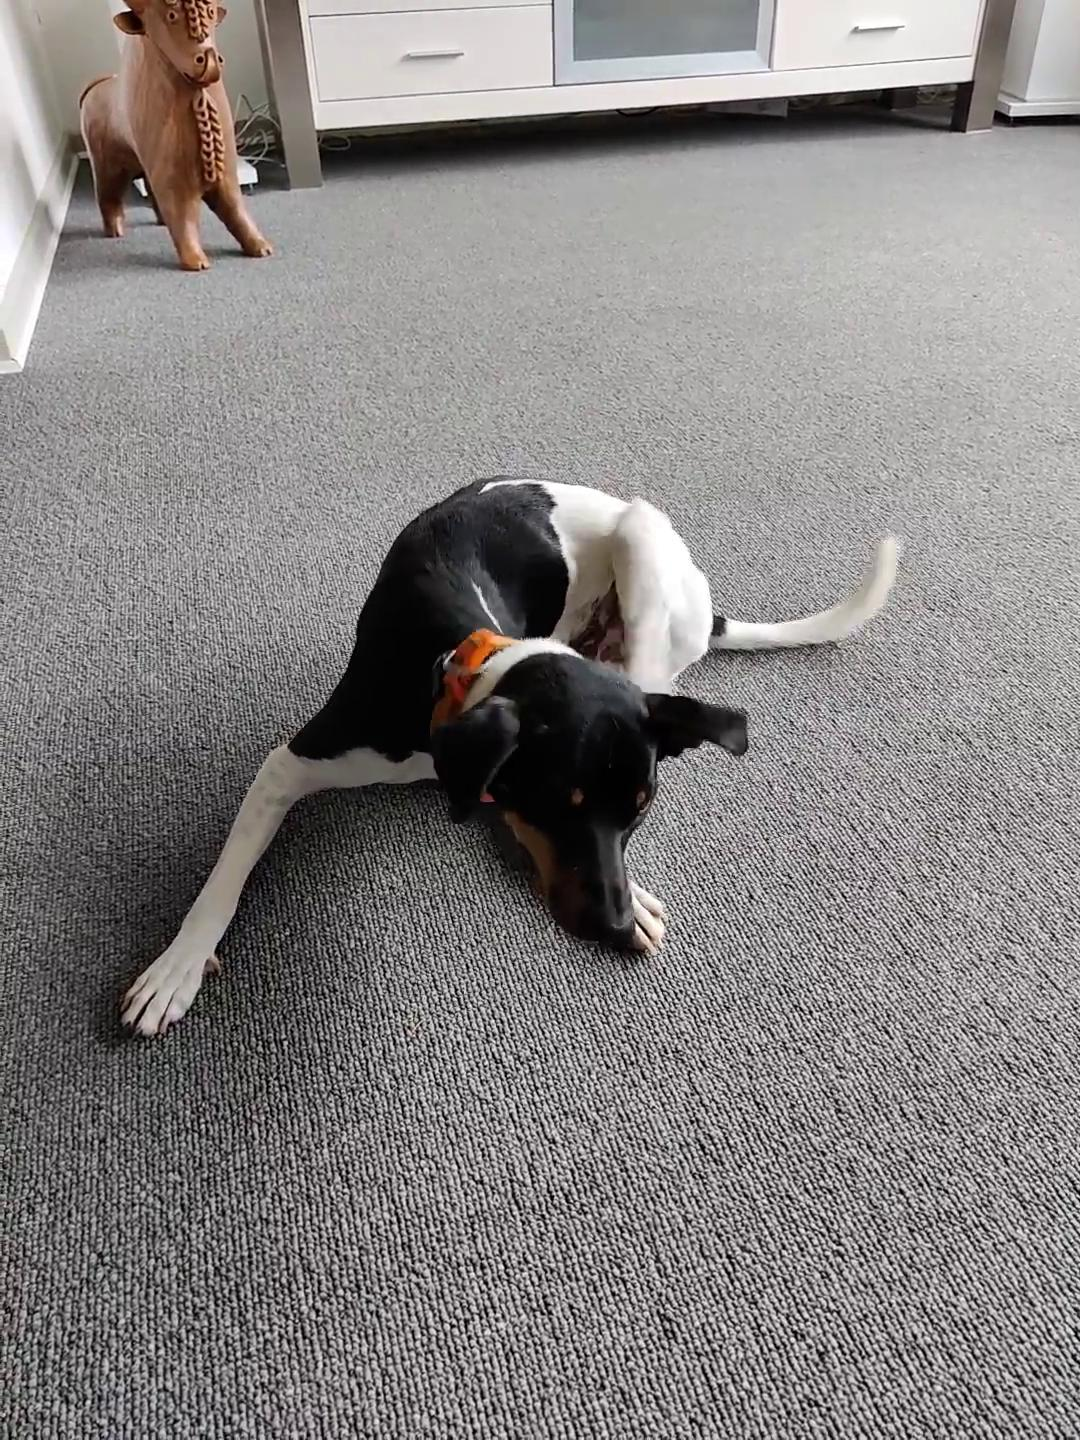Dog: (111, 471, 905, 1045)
